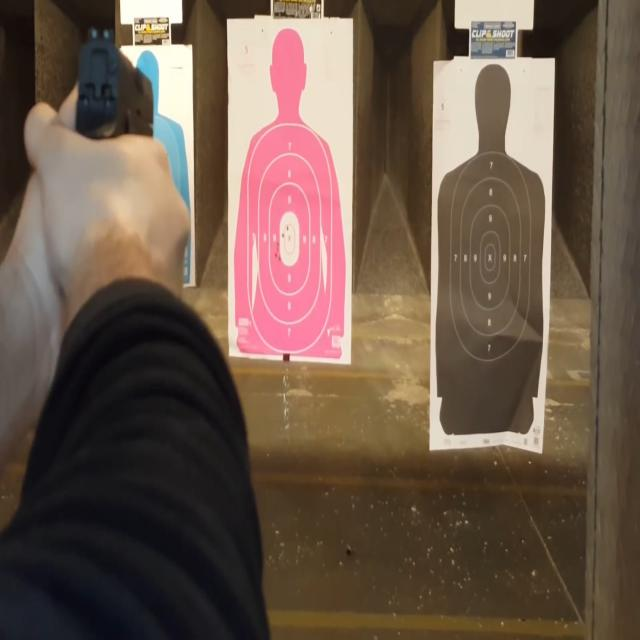handgun: (67, 38, 165, 224)
